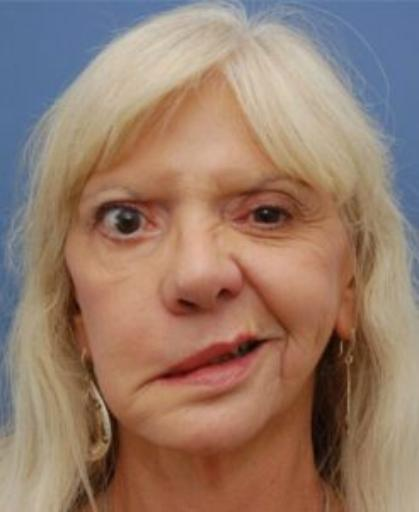left_eye: (231, 203, 299, 232)
left_lip_corner: (260, 331, 283, 353)
right_eye: (93, 202, 162, 244)
right_lip_corner: (134, 364, 188, 397)
